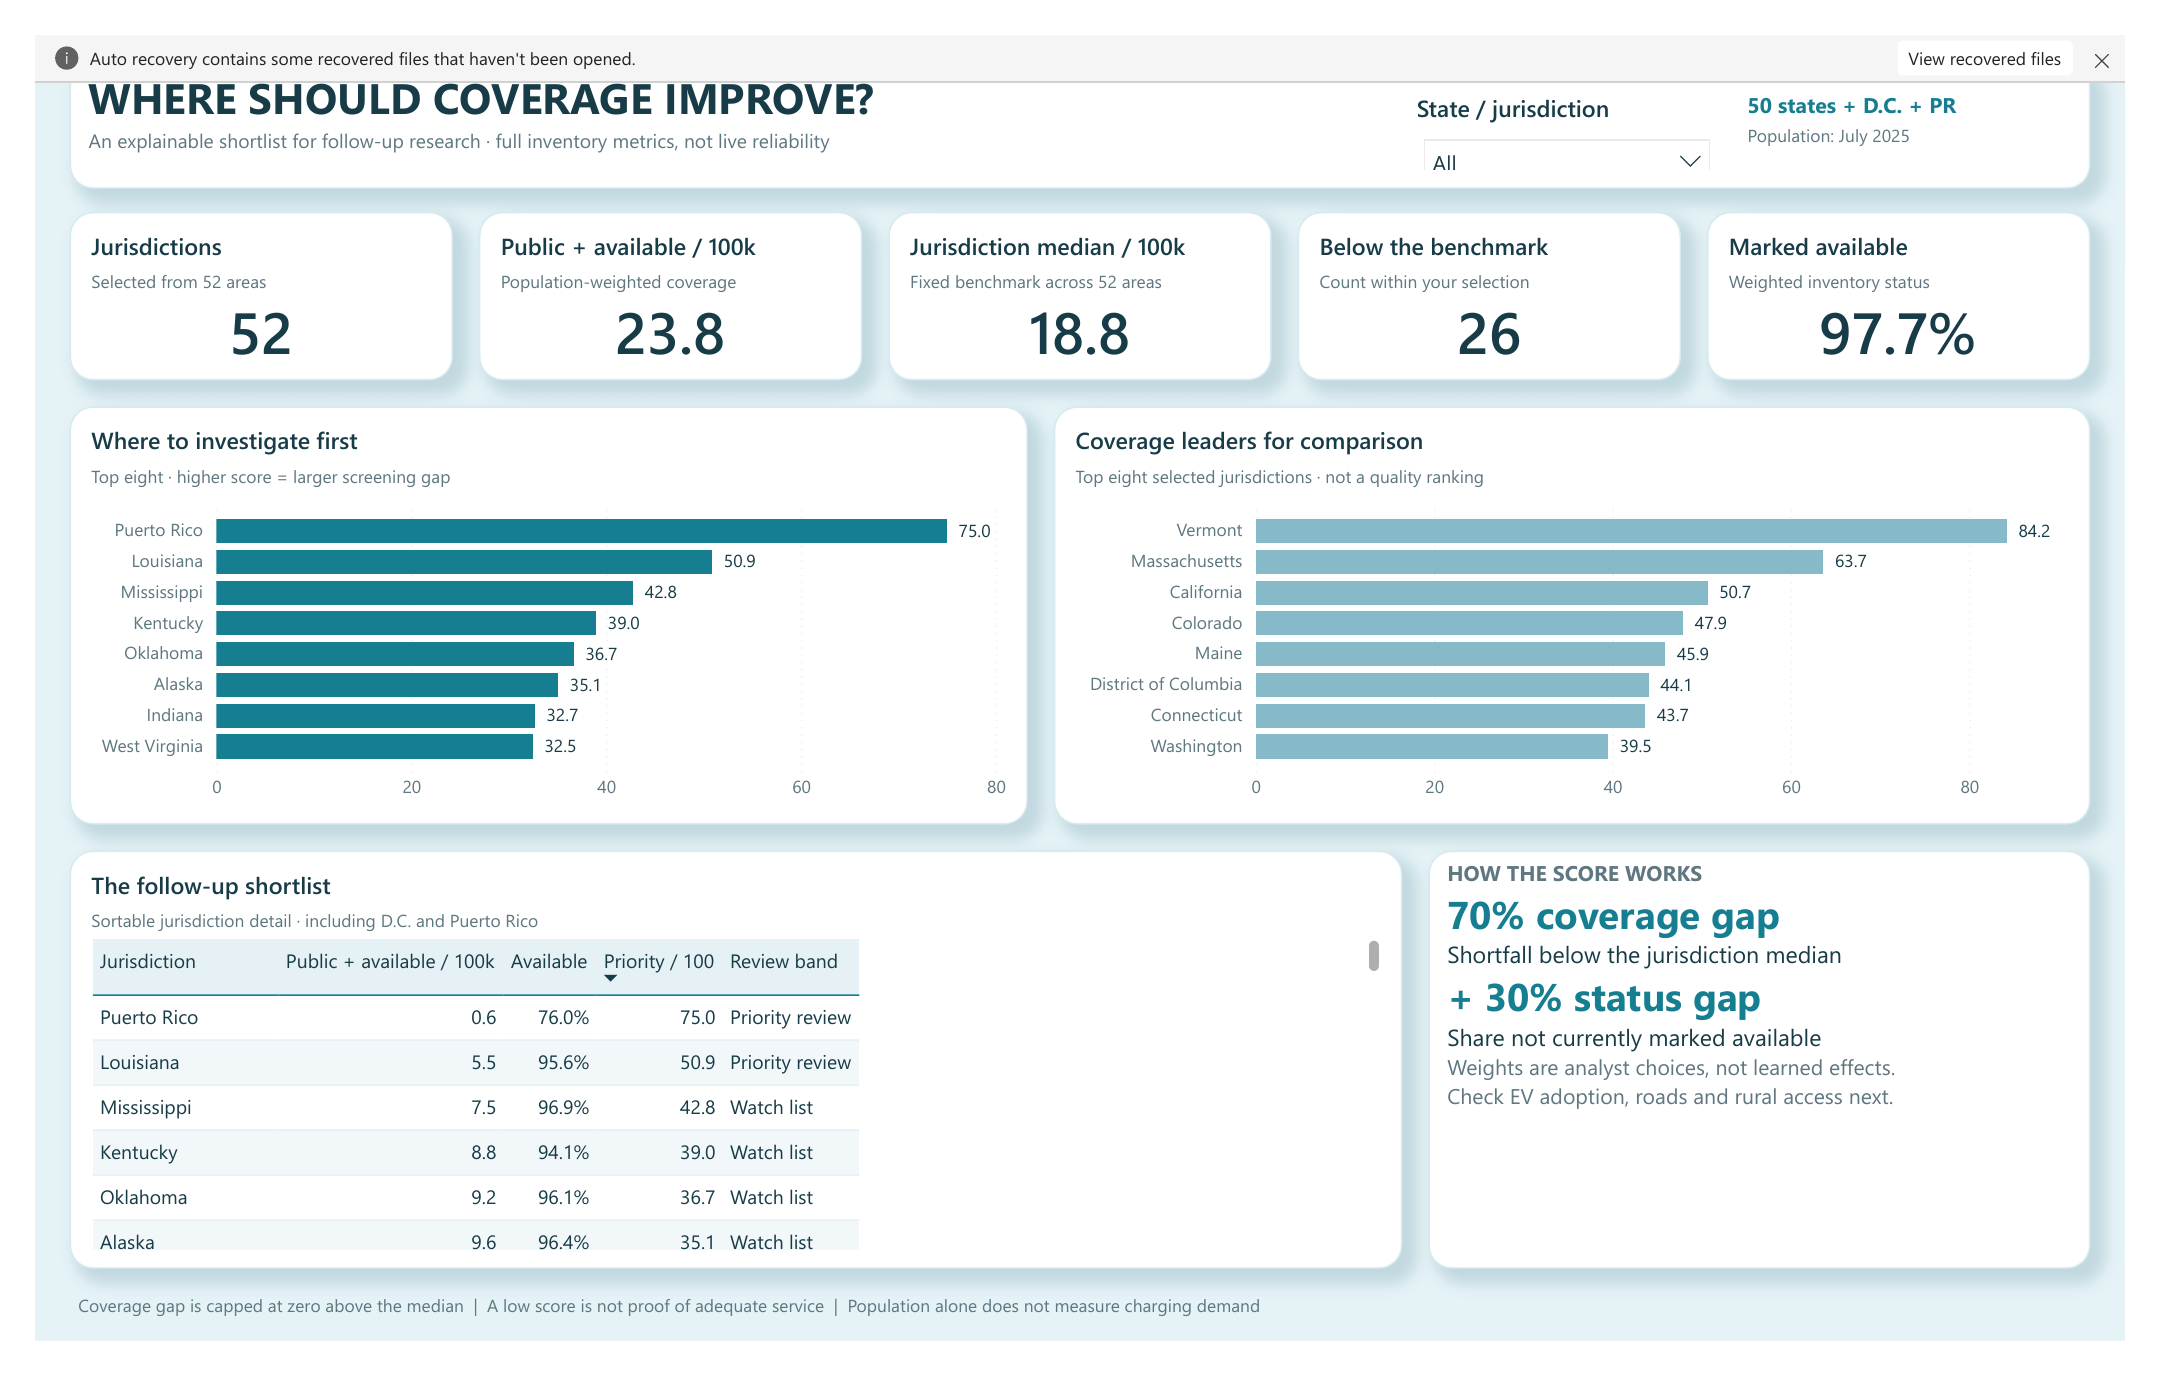

The page's visual inventory and layout, read from the dashboard file:
{"tool":"powerbi","page":{"name":"02  Coverage priorities","canvas":[1440,900],"ordinal":1},"visuals":[{"type":"textbox","box":[24,18,1392,88],"z":1000},{"type":"slicer","title":"State / jurisdiction","fields":{"Values":["Geography.state_name"]},"box":[938,28,235,65],"z":1001},{"type":"textbox","box":[1180,38,214,44],"z":1002},{"type":"card","title":"Jurisdictions","fields":{"Values":["Stations.Jurisdictions"]},"box":[24,122,264,116],"z":1003},{"type":"card","title":"Public + available / 100k","fields":{"Values":["Stations.Snapshot Coverage"]},"box":[306,122,264,116],"z":1004},{"type":"card","title":"Jurisdiction median / 100k","fields":{"Values":["Stations.Median Coverage"]},"box":[588,122,264,116],"z":1005},{"type":"card","title":"Below the benchmark","fields":{"Values":["Stations.Below Median"]},"box":[870,122,264,116],"z":1006},{"type":"card","title":"Marked available","fields":{"Values":["Stations.Snapshot Availability"]},"box":[1152,122,264,116],"z":1007},{"type":"clusteredBarChart","title":"Where to investigate first","fields":{"Category":["Geography.state_name"],"Y":["Stations.Top Priority"]},"box":[24,256,660,288],"z":1008},{"type":"clusteredBarChart","title":"Coverage leaders for comparison","fields":{"Category":["Geography.state_name"],"Y":["Stations.Top Coverage"]},"box":[702,256,714,288],"z":1009},{"type":"tableEx","title":"The follow-up shortlist","fields":{"Values":["Geography.state_name","Stations.Snapshot Coverage","Stations.Snapshot Availability","Stations.Snapshot Priority","Geography.priority_band"]},"box":[24,562,918,288],"z":1010},{"type":"textbox","box":[960,562,456,288],"z":1011},{"type":"textbox","box":[30,864,1380,28],"z":1012}]}

Visuals, with their boxes on the page's 1440x900 design canvas (x1, y1, x2, y2). These are canvas units, not pixel positions in the 2160x1377 screenshot, which may show the page scaled, cropped or inside an application window:
textbox: (x1=24, y1=18, x2=1416, y2=106)
"State / jurisdiction" slicer: (x1=938, y1=28, x2=1173, y2=93)
textbox: (x1=1180, y1=38, x2=1394, y2=82)
"Jurisdictions" card: (x1=24, y1=122, x2=288, y2=238)
"Public + available / 100k" card: (x1=306, y1=122, x2=570, y2=238)
"Jurisdiction median / 100k" card: (x1=588, y1=122, x2=852, y2=238)
"Below the benchmark" card: (x1=870, y1=122, x2=1134, y2=238)
"Marked available" card: (x1=1152, y1=122, x2=1416, y2=238)
"Where to investigate first" clusteredBarChart: (x1=24, y1=256, x2=684, y2=544)
"Coverage leaders for comparison" clusteredBarChart: (x1=702, y1=256, x2=1416, y2=544)
"The follow-up shortlist" tableEx: (x1=24, y1=562, x2=942, y2=850)
textbox: (x1=960, y1=562, x2=1416, y2=850)
textbox: (x1=30, y1=864, x2=1410, y2=892)
